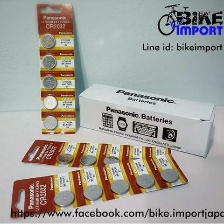battery: (50, 187, 75, 208), (79, 183, 105, 203), (108, 177, 132, 197), (135, 171, 157, 191), (158, 166, 181, 185), (38, 73, 59, 91), (40, 93, 59, 112), (37, 32, 56, 50), (55, 149, 76, 165), (102, 153, 123, 169), (42, 114, 60, 131), (80, 151, 97, 168), (40, 55, 58, 70)
book: (6, 151, 192, 221), (77, 80, 218, 160), (19, 137, 174, 178), (34, 1, 79, 137)
